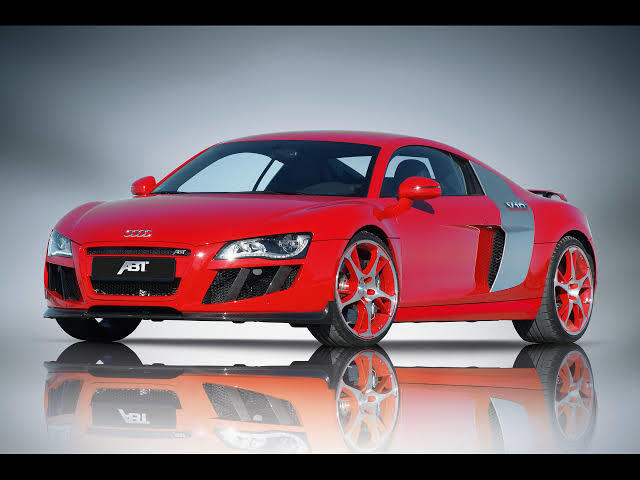audi: (29, 126, 606, 351)
